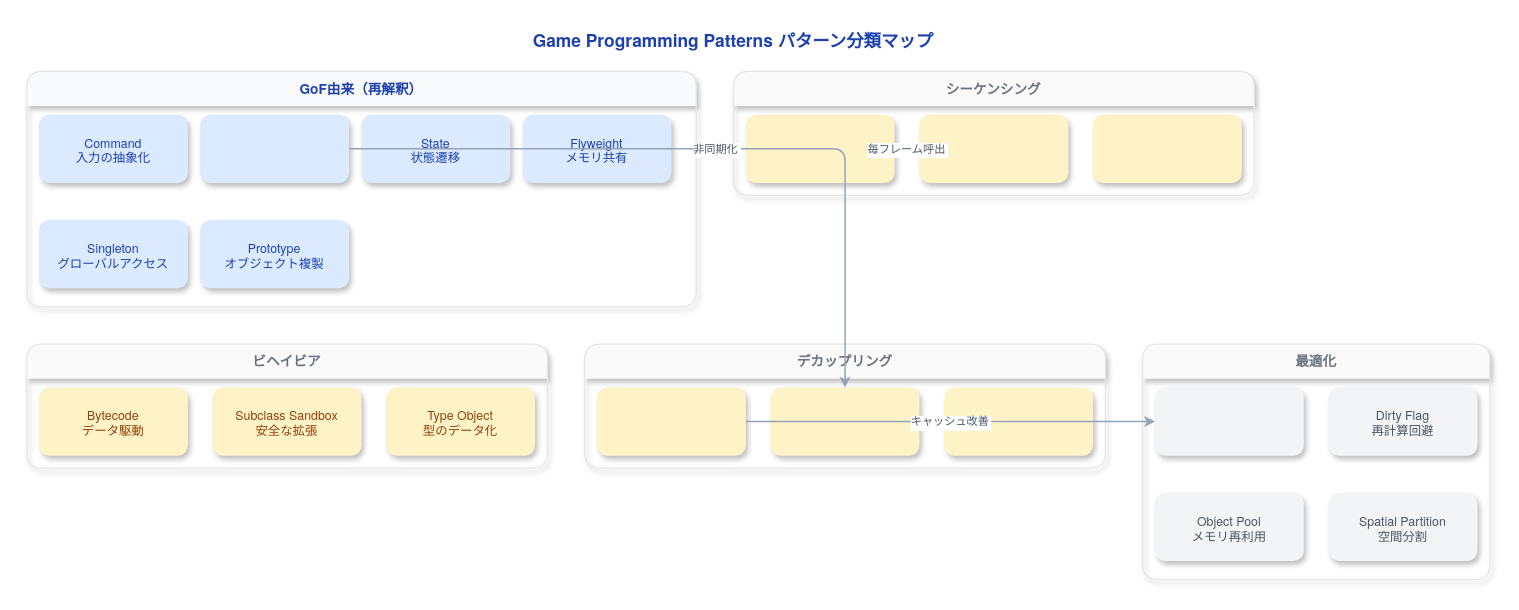
Image size: 1519x610. Some labels were removed from this diagram. The shapes that lost their labels are listed below. From the top down, each one's centre as x and y in pixels, then its label:
pixel 275 150: Observer イベント通知
pixel 820 150: Game Loop 時間制御
pixel 994 150: Update Method フレーム更新
pixel 1168 150: Double Buffer 描画安定化
pixel 672 423: Component エンティティ分割
pixel 845 423: Event Queue 非同期通信
pixel 1019 423: Service Locator サービス解決
pixel 1230 423: Data Locality キャッシュ効率
